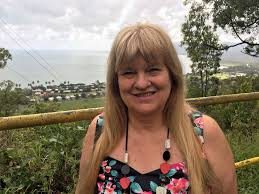white_female: (113, 43, 185, 118)
